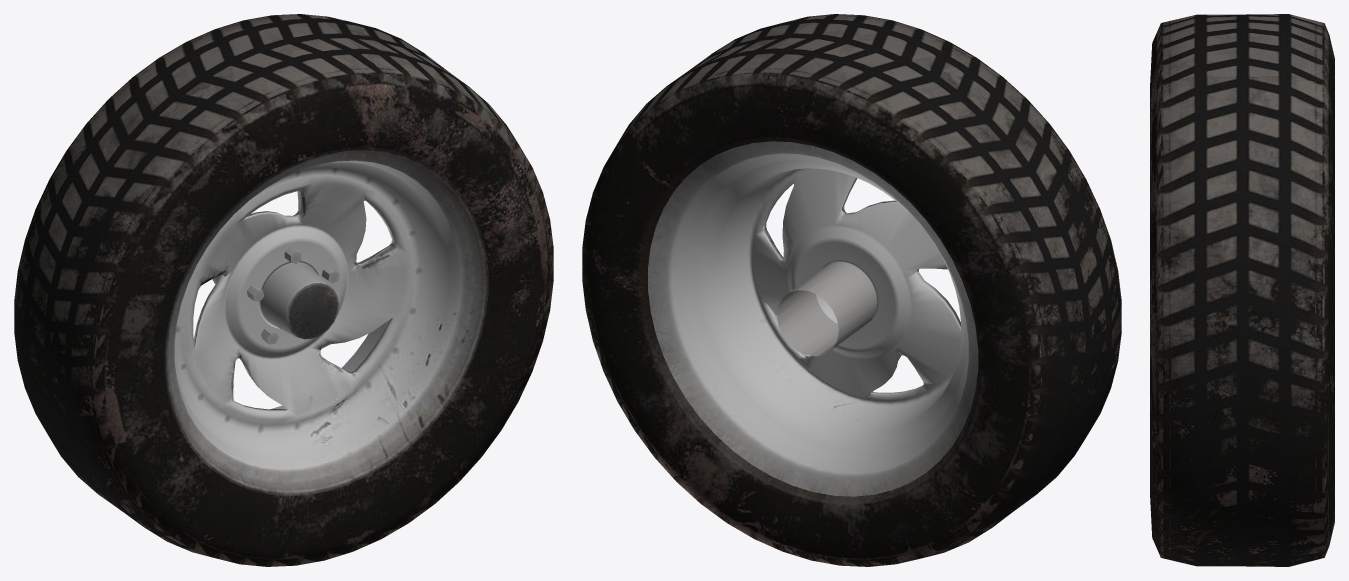
Rendered from chevroletimpalawheel.glb.
3 renders of one model, left to right at view 1: azimuth 30°, elevation 25°; view 2: azimuth 150°, elevation 25°; view 3: azimuth 270°, elevation 25°, orthographic.
Visible parts, largest first — view 1: wheels; view 2: wheels; view 3: wheels.
Boxes of the visible parts, <box> form: wheels: <box>14,14,553,566</box>; wheels: <box>582,14,1121,566</box>; wheels: <box>1150,14,1334,566</box>.
Bounding box in the file's own units: 0.7263 × 0.7277 × 0.2427.
1 material, 1 textured.
